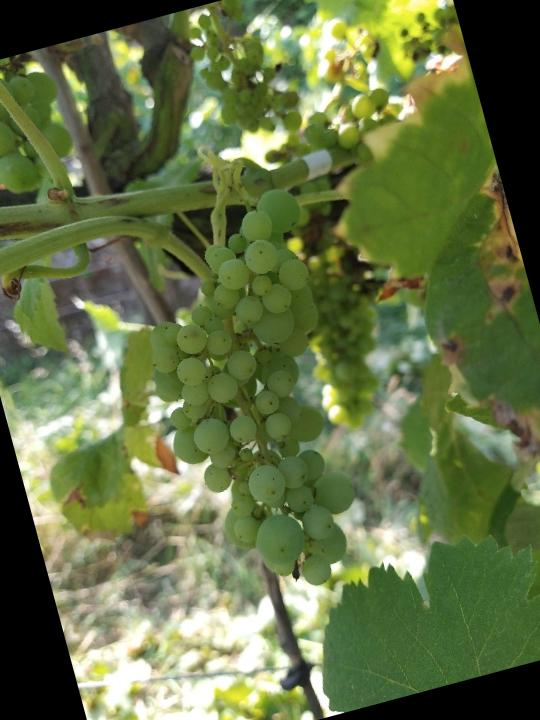grape: (112, 179, 399, 617)
